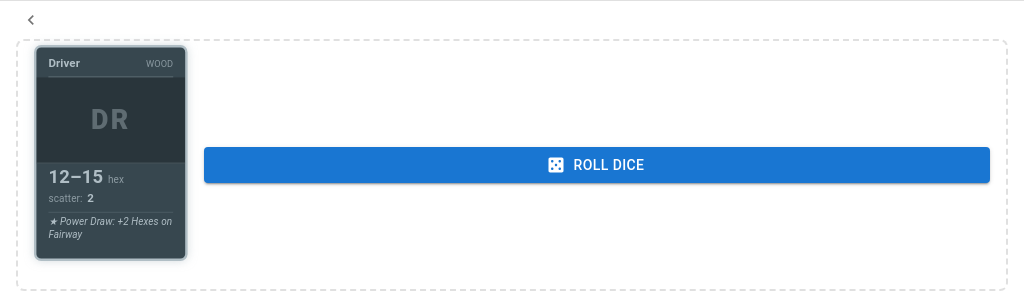
Test case: ShotOverlay › after rolling dice › shows the power roll after clicking "Roll Dice"
The width and height of the screenshot is (1024, 308).
Click the button "Roll Dice" at (597, 165), box x1=204 y1=147 x2=990 y2=183
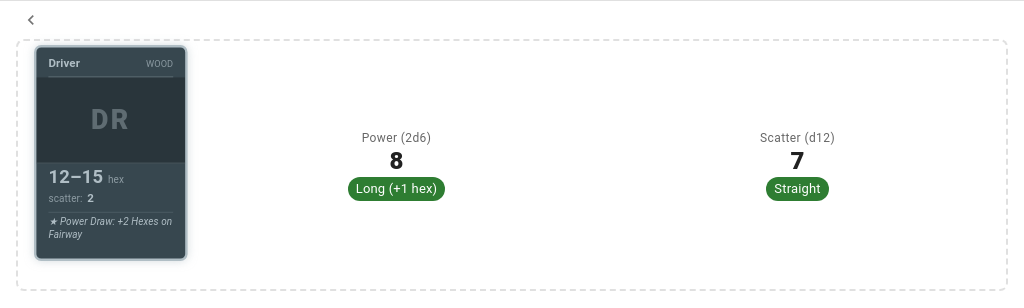
Expected: the text "Power (2d6)" is shown, x1=362 y1=131 x2=431 y2=145
Expected: the heading "8" is shown, x1=390 y1=147 x2=403 y2=175
